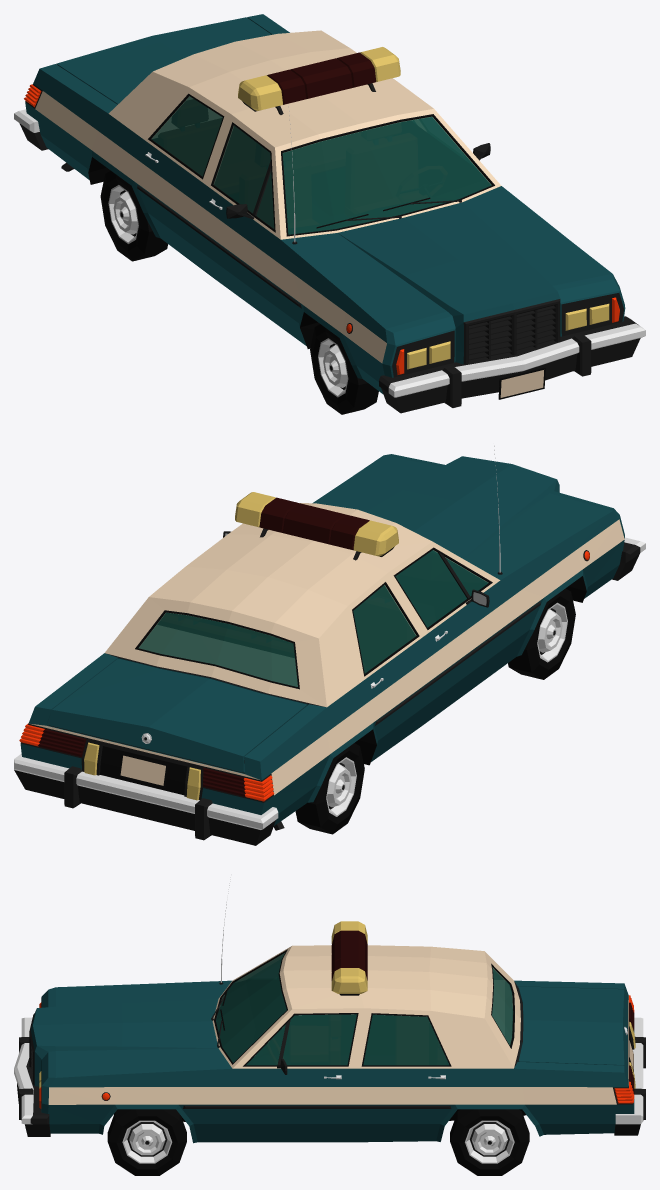
Rendered from PoliceCar_02.FBX.
3 renders of one model, top to bottom at view 1: azimuth 30°, elevation 25°; view 2: azimuth 150°, elevation 25°; view 3: azimuth 270°, elevation 25°, orthographic. The views are drawn at different scales.
Parts seen in each view (by area): view 1: PoliceCar_02, interior, bumper_f, wheel_f_r, wheel_b_r, grill, signalLights_01, signalLights_02, signalLights_03, headLights, licensePlate_f, bumper_b; view 2: PoliceCar_02, interior, bumper_b, wheel_b_r, wheel_f_r, signalLights_01, tailLights, signalLights_02, signalLights_03, licensePlate_b, backupLights, bumper_f (+1 smaller); view 3: PoliceCar_02, interior, wheel_b_l, wheel_f_l, bumper_f, bumper_b, signalLights_02, signalLights_01, signalLights_03.
Boxes of the visible parts, box(x1,y1,x2,y2) form: PoliceCar_02: box(25, 14, 625, 394); interior: box(152, 96, 491, 234); bumper_f: box(379, 316, 645, 413); wheel_f_r: box(310, 324, 378, 414); wheel_b_r: box(100, 170, 167, 261); grill: box(469, 305, 555, 360); signalLights_01: box(238, 69, 306, 110); signalLights_02: box(337, 47, 400, 87); signalLights_03: box(290, 58, 352, 98); headLights: box(407, 303, 609, 369); licensePlate_f: box(498, 367, 545, 399); bumper_b: box(14, 109, 48, 150); PoliceCar_02: box(20, 454, 624, 825); interior: box(139, 550, 487, 686); bumper_b: box(14, 753, 278, 845); wheel_b_r: box(295, 743, 364, 834); wheel_f_r: box(508, 588, 575, 679); signalLights_01: box(330, 515, 398, 556); tailLights: box(38, 729, 245, 796); signalLights_02: box(235, 492, 299, 532); signalLights_03: box(283, 503, 346, 544); licensePlate_b: box(119, 753, 167, 787); backupLights: box(84, 742, 200, 800); bumper_f: box(612, 537, 645, 580); PoliceCar_02: box(29, 945, 634, 1143); interior: box(216, 954, 512, 1064); wheel_b_l: box(450, 1109, 529, 1175); wheel_f_l: box(107, 1109, 186, 1175); bumper_f: box(14, 1017, 50, 1136); bumper_b: box(614, 1017, 645, 1135); signalLights_02: box(331, 958, 367, 993); signalLights_01: box(331, 921, 367, 953); signalLights_03: box(331, 940, 367, 971).
Bounding box in the file's own units: 26.94 × 25.92 × 68.32.
